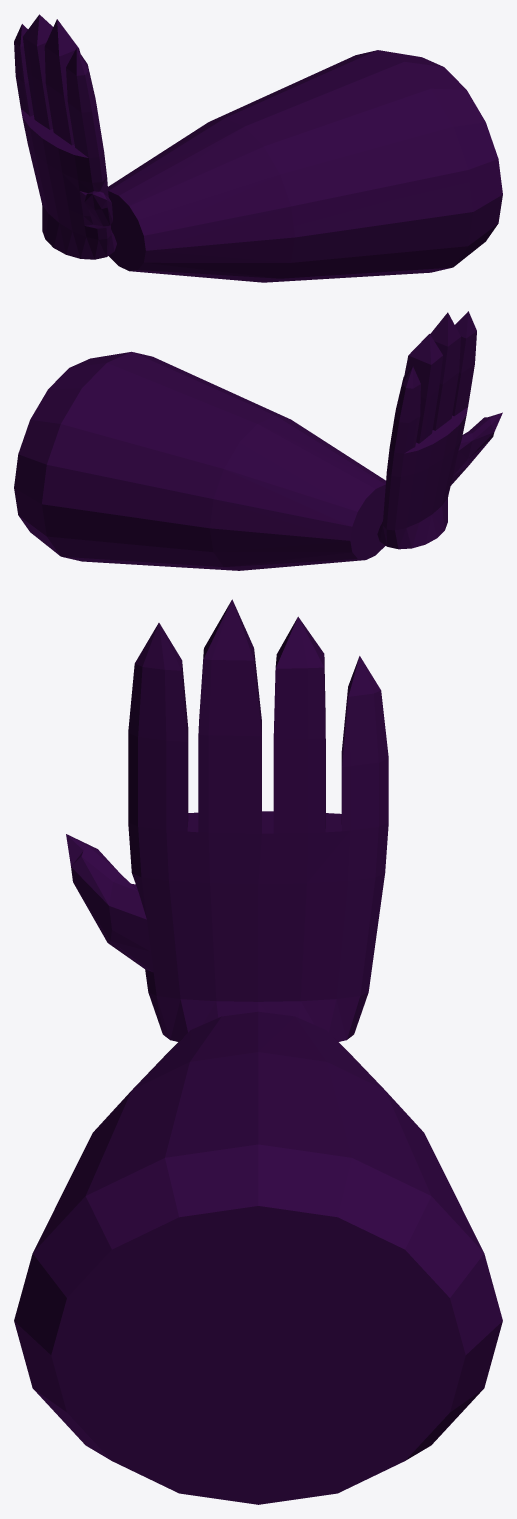
Rendered from Boss_ArmR_Pa.obj.
3 renders of one model, top to bottom at view 1: azimuth 30°, elevation 25°; view 2: azimuth 150°, elevation 25°; view 3: azimuth 270°, elevation 25°, orthographic. The views are drawn at different scales.
Parts seen in each view (by area): view 1: 円柱.010; view 2: 円柱.010; view 3: 円柱.010.
Boxes of the visible parts, left/top/right/bottom form: 円柱.010: left=14, top=14, right=502, bottom=282; 円柱.010: left=14, top=311, right=502, bottom=570; 円柱.010: left=14, top=599, right=502, bottom=1504.
Size of the model in its own units: 0.963 by 0.7569 by 0.567.
1 material, 1 textured.
